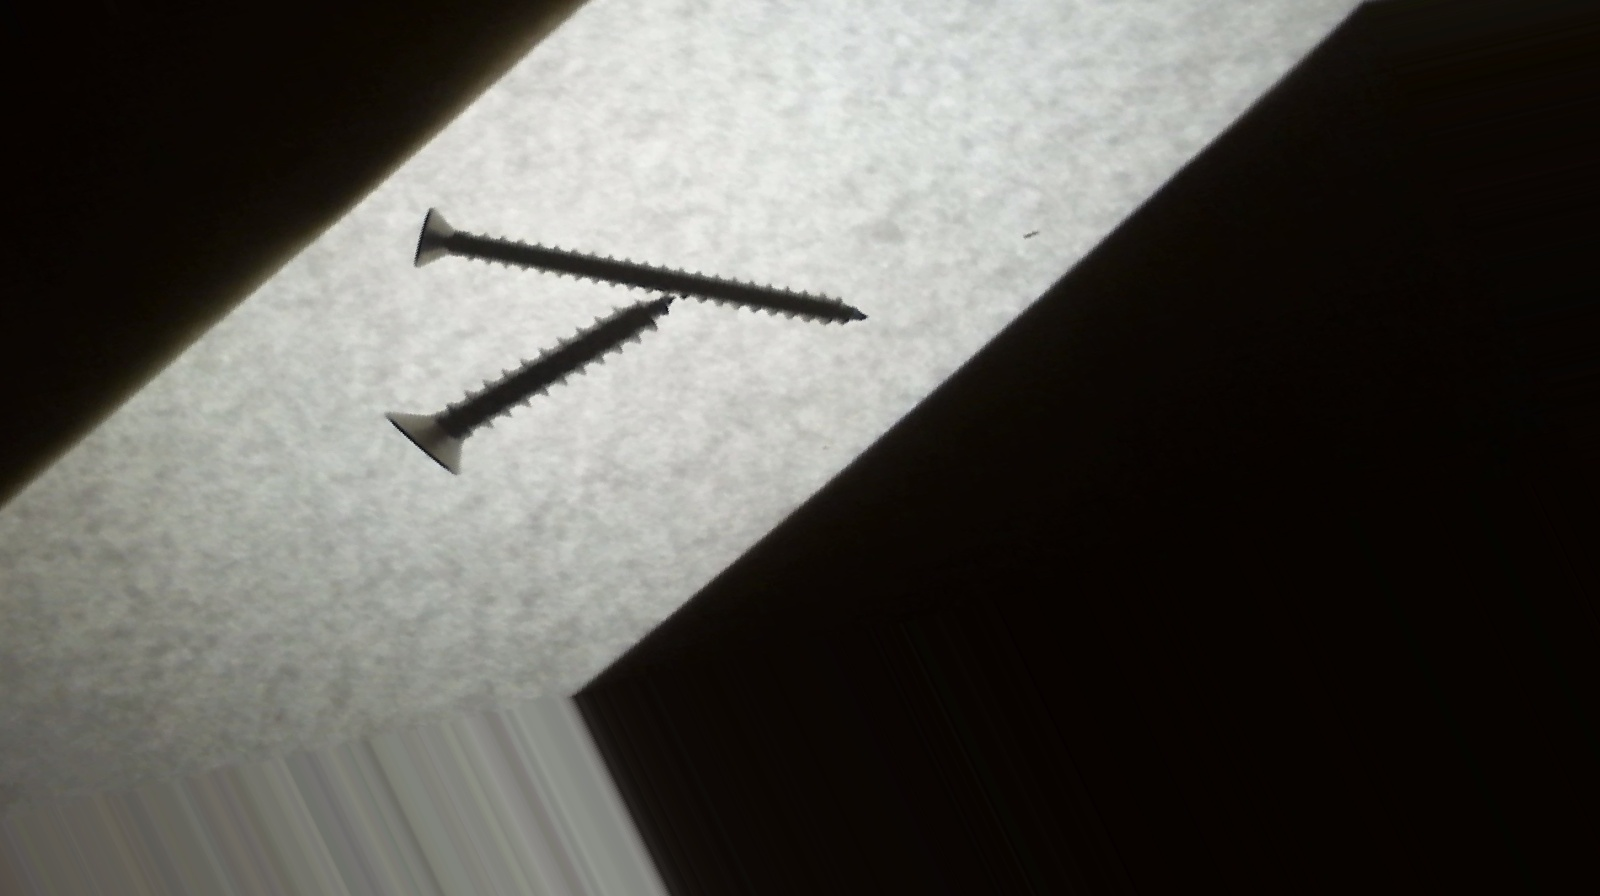S001: (353, 291, 733, 486)
S002: (380, 131, 871, 410)
